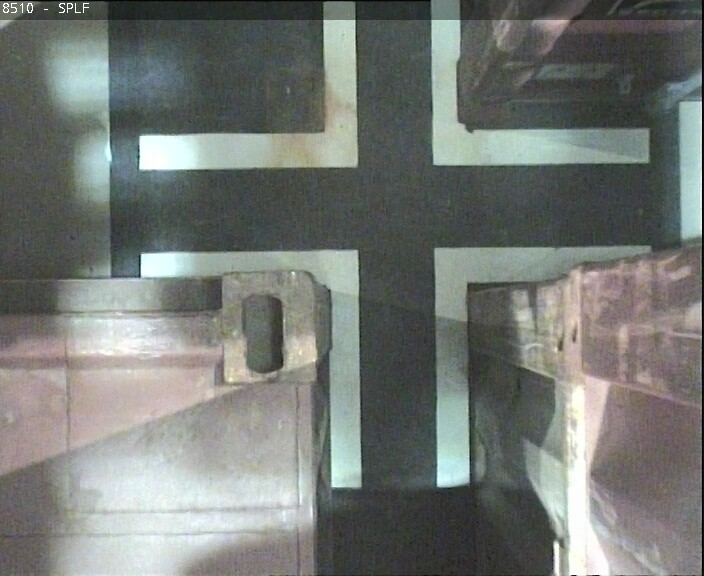groundmarker_1: (141, 250, 650, 490), (140, 1, 649, 168)
